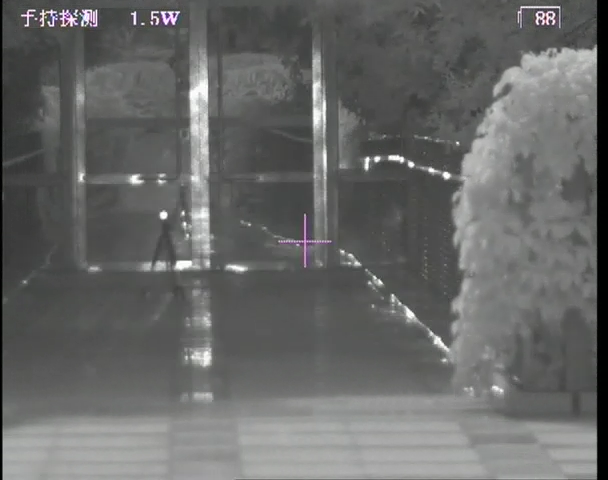my: (158, 208, 170, 223)
